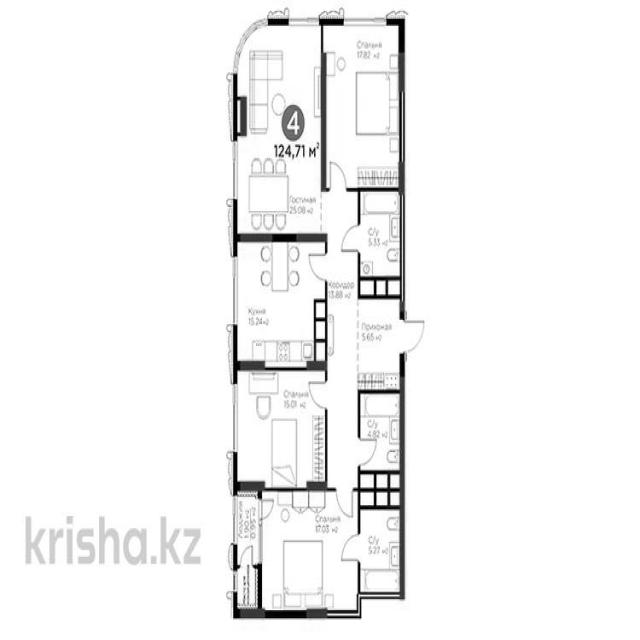balcony: (232, 492, 262, 615)
bathroom: (233, 367, 326, 490), (357, 507, 402, 597), (358, 190, 401, 280), (358, 394, 399, 471)
hallway: (328, 301, 400, 390)
living_room: (235, 32, 324, 240), (322, 22, 404, 190), (260, 488, 360, 616), (232, 241, 325, 368)
